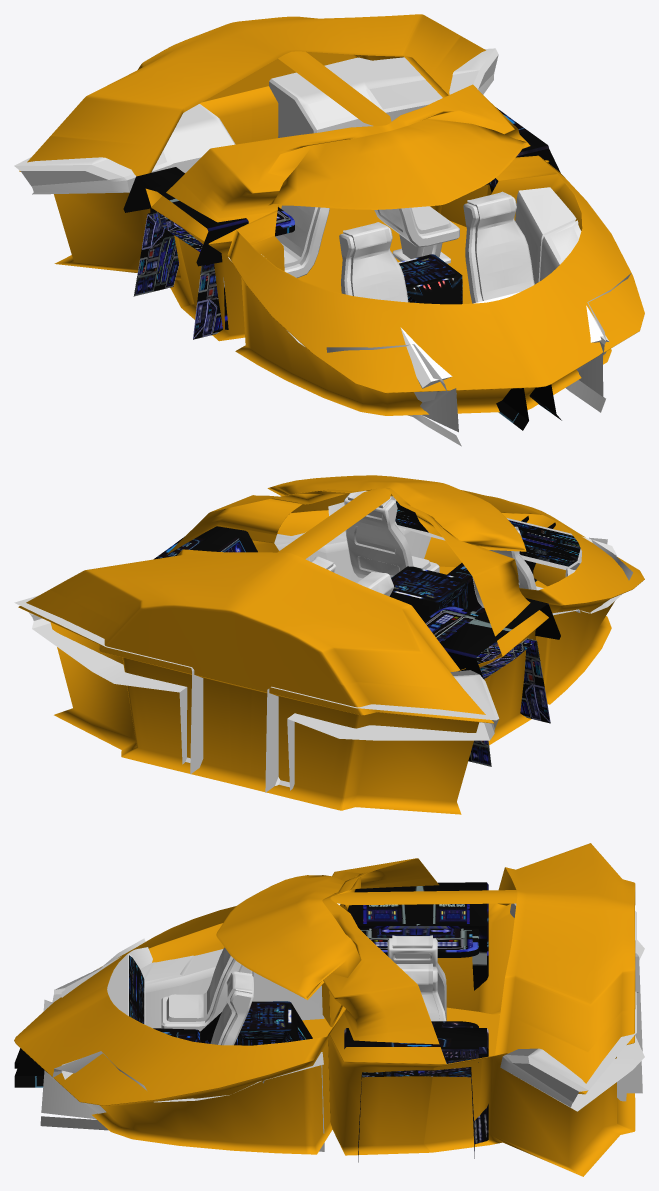
Rendered from spaceshipDrive.glb.
3 views of the same model, one above another, from view 1: azimuth 30°, elevation 25°; view 2: azimuth 150°, elevation 25°; view 3: azimuth 270°, elevation 25° (orthographic).
Parts seen in each view (by area): view 1: pCube2, polySurface6158, polySurface6154, polySurface4345, polySurface6162, polySurface6160, polySurface6164, polySurface4340, polySurface6166, polySurface6165, polySurface4316, pCube4 (+1 smaller); view 2: pCube2, polySurface6154, polySurface4345, polySurface6158, polySurface6162, polySurface4340, pCube4, polySurface6160, polySurface6159, polySurface6164, polySurface4316, polySurface6165; view 3: pCube2, polySurface6154, polySurface6158, polySurface4316, polySurface4340, polySurface6159, polySurface6160, polySurface6164, pCube4, polySurface6162, polySurface6165, polySurface6166 (+1 smaller).
Part boxes in pixels (<box>): pCube2: <box>19,14,644,415</box>; polySurface6158: <box>269,48,498,137</box>; polySurface6154: <box>123,167,294,339</box>; polySurface4345: <box>14,104,235,194</box>; polySurface6162: <box>463,191,534,303</box>; polySurface6160: <box>515,187,631,412</box>; polySurface6164: <box>339,222,408,302</box>; polySurface4340: <box>398,254,561,430</box>; polySurface6166: <box>374,206,459,263</box>; polySurface6165: <box>275,205,329,278</box>; polySurface4316: <box>228,254,461,446</box>; pCube4: <box>400,292,609,402</box>; pCube2: <box>18,475,644,814</box>; polySurface6154: <box>424,598,560,766</box>; polySurface4345: <box>265,670,499,792</box>; polySurface6158: <box>14,595,203,774</box>; polySurface6162: <box>344,490,439,578</box>; polySurface4340: <box>389,516,555,620</box>; pCube4: <box>395,499,616,569</box>; polySurface6160: <box>274,498,431,582</box>; polySurface6159: <box>153,526,257,559</box>; polySurface6164: <box>472,526,543,607</box>; polySurface4316: <box>552,537,633,615</box>; polySurface6165: <box>357,572,393,596</box>; pCube2: <box>14,843,635,1176</box>; polySurface6154: <box>344,882,488,990</box>; polySurface6158: <box>500,991,644,1111</box>; polySurface4316: <box>43,938,324,1028</box>; polySurface4340: <box>14,1001,312,1087</box>; polySurface6159: <box>344,1021,488,1162</box>; polySurface6160: <box>40,1051,324,1151</box>; polySurface6164: <box>161,947,242,1031</box>; pCube4: <box>61,953,145,1079</box>; polySurface6162: <box>210,971,253,1045</box>; polySurface6165: <box>387,935,446,1020</box>; polySurface6166: <box>396,963,446,1021</box>.
Bounding box in the file's own units: 0.6235 × 0.2564 × 0.715.
9 materials, 4 textured.
